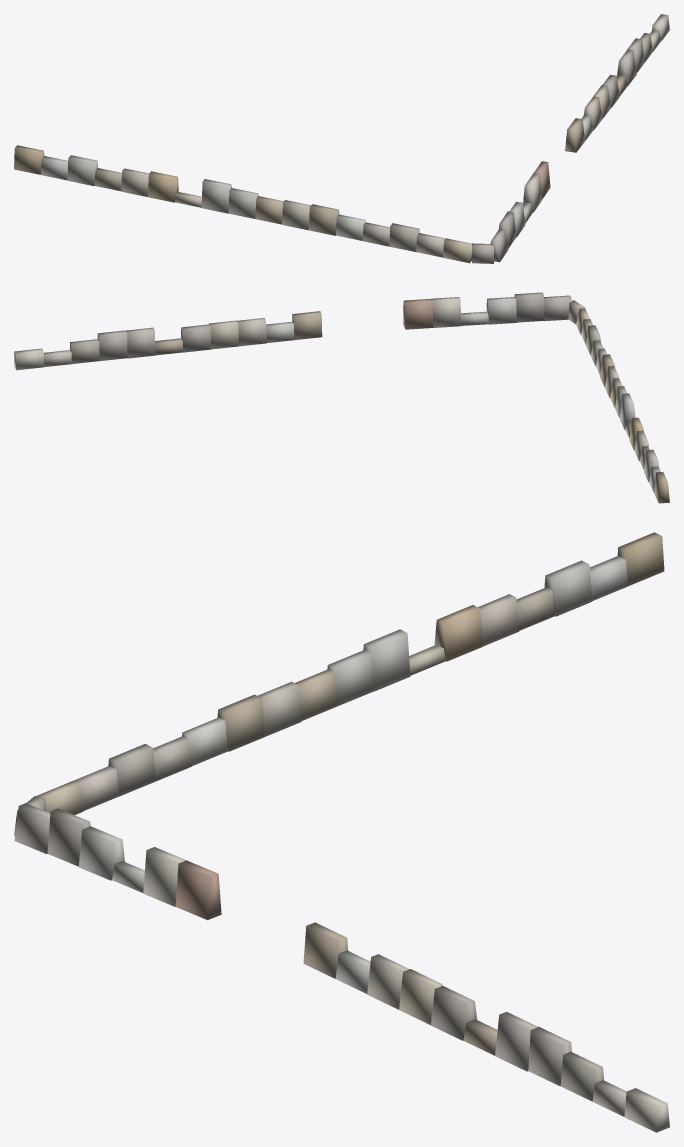
File: farm_18_26_collision.glb
3 views of the same model, one above another, from view 1: azimuth 30°, elevation 25°; view 2: azimuth 150°, elevation 25°; view 3: azimuth 270°, elevation 25° (orthographic). The views are drawn at different scales.
Parts seen in each view (by area): view 1: geometry_0; view 2: geometry_0; view 3: geometry_0.
Boxes of the visible parts, x1,y1,x2,y2 form: geometry_0: [14, 14, 669, 263]; geometry_0: [14, 292, 669, 503]; geometry_0: [14, 532, 669, 1132].
Size of the model in its own units: 41.76 by 2.67 by 21.8.
